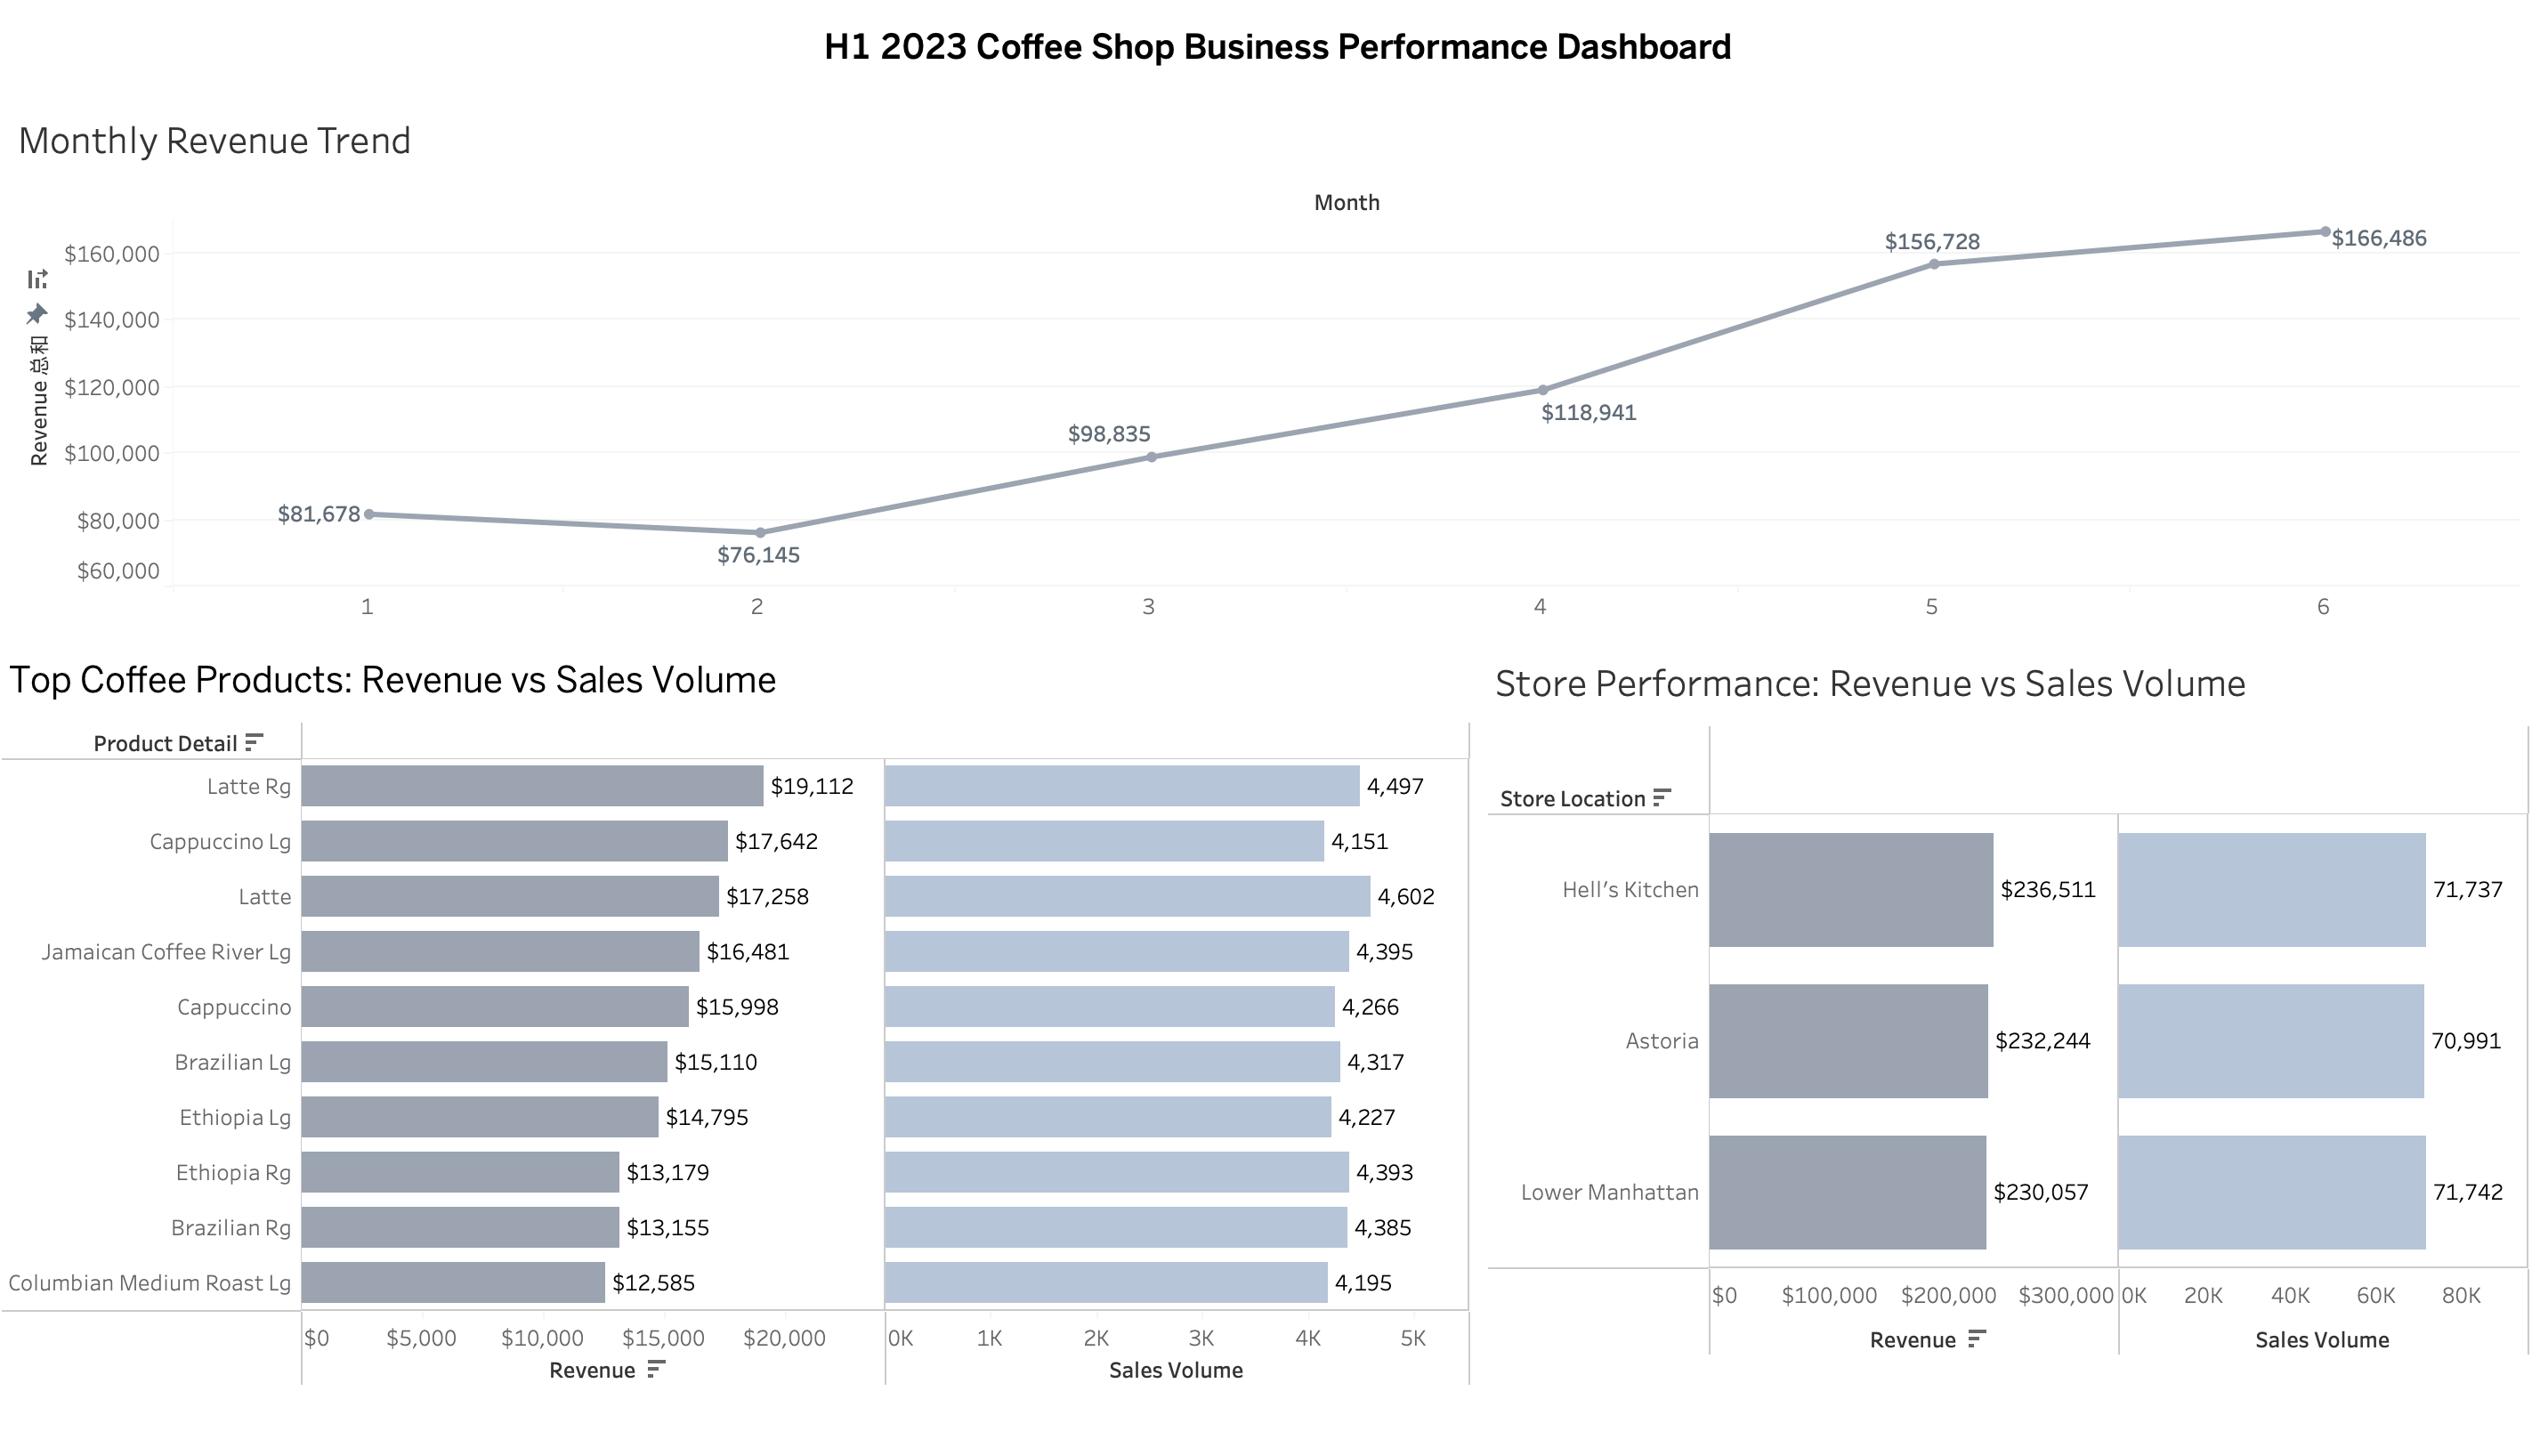

Layout of this report page (visuals, bound fields, positions):
{"tool":"tableau","page":{"name":"H1 2023 Coffee Shop Business Performance Dashboard ","canvas":[1000,1000],"units":"permille","ordinal":0},"visuals":[{"type":"text","box":[13,21.2,980,37.5]},{"type":"worksheet","title":"Monthly Revenue Trend(H12023)","mark":"Line","rows":["revenue"],"cols":["month"],"box":[5.7,73,984.4,341.6]},{"type":"worksheet","title":"Top Coffee Products: Revenue vs Sales Volume Comparison","mark":"Automatic","rows":["product_detail"],"cols":["revenue","sales_volume"],"box":[5,428.2,573.6,565.6]},{"type":"worksheet","title":"Store Revenue vs Sales Volume","mark":"Automatic","rows":["store_location"],"cols":["revenue","sales_volume"],"box":[584.9,428.2,405.9,566.8]}]}

Visuals, with their boxes on the dashboard's canvas, which has no fixed pixel size, in thousandths of its width and height (x1, y1, x2, y2). These are canvas units, not pixel positions in the 2540x1456 screenshot, which may show the page scaled, cropped or inside an application window:
text: pyautogui.locateOnScreen(13, 21, 993, 59)
"Monthly Revenue Trend(H12023)" worksheet (Line marks): pyautogui.locateOnScreen(6, 73, 990, 415)
"Top Coffee Products: Revenue vs Sales Volume Comparison" worksheet: pyautogui.locateOnScreen(5, 428, 579, 994)
"Store Revenue vs Sales Volume" worksheet: pyautogui.locateOnScreen(585, 428, 991, 995)
